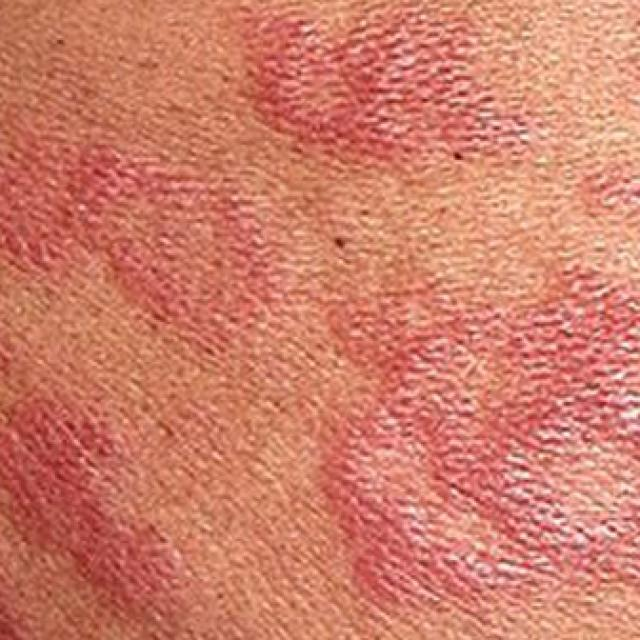Leprosy: (318, 266, 640, 640), (0, 136, 297, 352), (0, 350, 215, 640), (244, 4, 556, 178), (574, 150, 640, 248), (605, 0, 640, 114)
